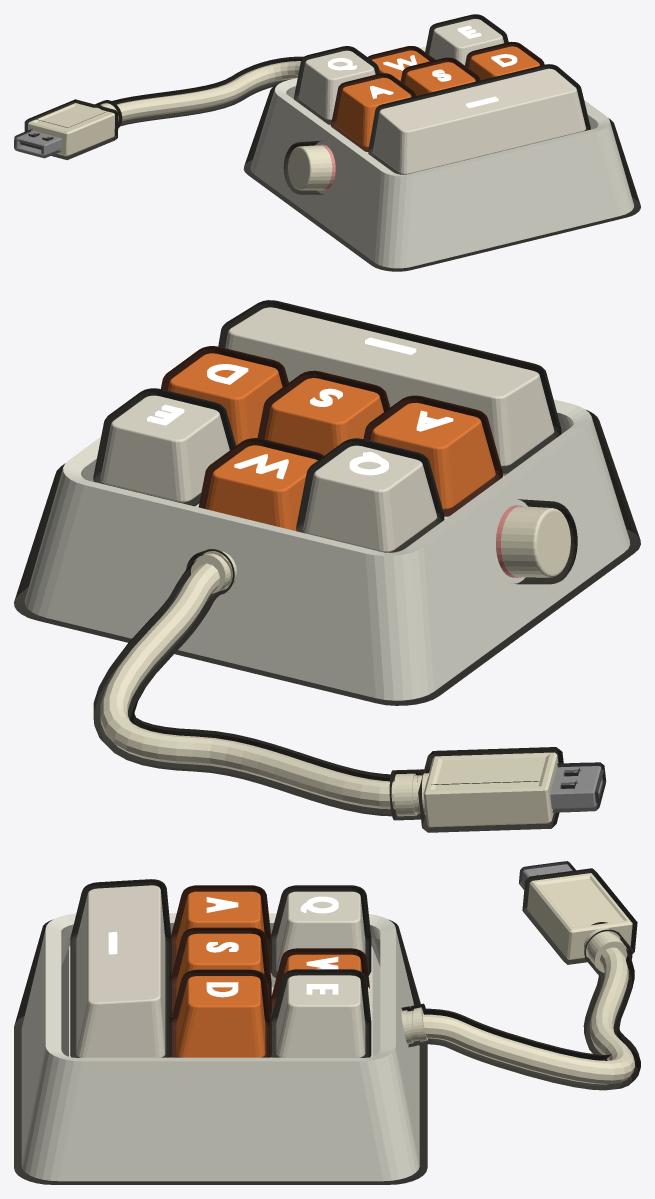
The model's file is mini_gaming_keyboard_cartoon.glb.
The picture shows the model from 3 angles, top to bottom: view 1: azimuth 30°, elevation 25°; view 2: azimuth 150°, elevation 25°; view 3: azimuth 270°, elevation 25°; orthographic projection. The views are drawn at different scales.
Parts seen in each view (by area): view 1: Cube, Key Space, BezierCurve, Key Q, Cube.009, Key A, Key E, Cylinder, Key S, Key D, Key W, Cube.011; view 2: Cube, Key Space, BezierCurve, Key Q, Key E, Cube.009, Key A, Key W, Key S, Key D, Cylinder, Cube.011 (+2 smaller); view 3: Cube, Key Space, BezierCurve, Key E, Key D, Cube.009, Key Q, Key S, Key A, Key W, Cube.001, Cylinder.003 (+2 smaller).
Boxes of the visible parts, x1,y1,x2,y2 form: Cube: [243, 46, 640, 271]; Key Space: [368, 64, 590, 174]; BezierCurve: [112, 56, 303, 126]; Key Q: [294, 46, 379, 124]; Cube.009: [24, 99, 118, 160]; Key A: [331, 73, 415, 151]; Key E: [425, 14, 508, 65]; Cylinder: [283, 140, 335, 194]; Key S: [400, 57, 480, 95]; Key D: [465, 41, 544, 80]; Key W: [368, 46, 435, 80]; Cube.011: [14, 128, 61, 158]; Cube: [14, 399, 640, 705]; Key Space: [218, 300, 561, 473]; BezierCurve: [93, 552, 397, 816]; Key Q: [296, 438, 444, 552]; Key E: [93, 388, 235, 506]; Cube.009: [418, 747, 563, 832]; Key A: [363, 395, 502, 516]; Key W: [198, 438, 323, 530]; Key S: [257, 370, 390, 455]; Key D: [161, 346, 288, 445]; Cylinder: [496, 499, 577, 584]; Cube.011: [550, 762, 606, 812]; Cube: [14, 913, 427, 1184]; Key Space: [70, 879, 171, 1057]; BezierCurve: [412, 947, 640, 1090]; Key E: [270, 969, 371, 1057]; Key D: [170, 969, 271, 1057]; Cube.009: [522, 868, 637, 964]; Key Q: [270, 885, 371, 977]; Key S: [170, 927, 271, 1015]; Key A: [170, 885, 271, 973]; Key W: [270, 948, 369, 1018]; Cube.001: [61, 946, 380, 1057]; Cylinder.003: [584, 922, 632, 974].
Bounding box in the file's own units: 6.74 × 1.84 × 6.27.
